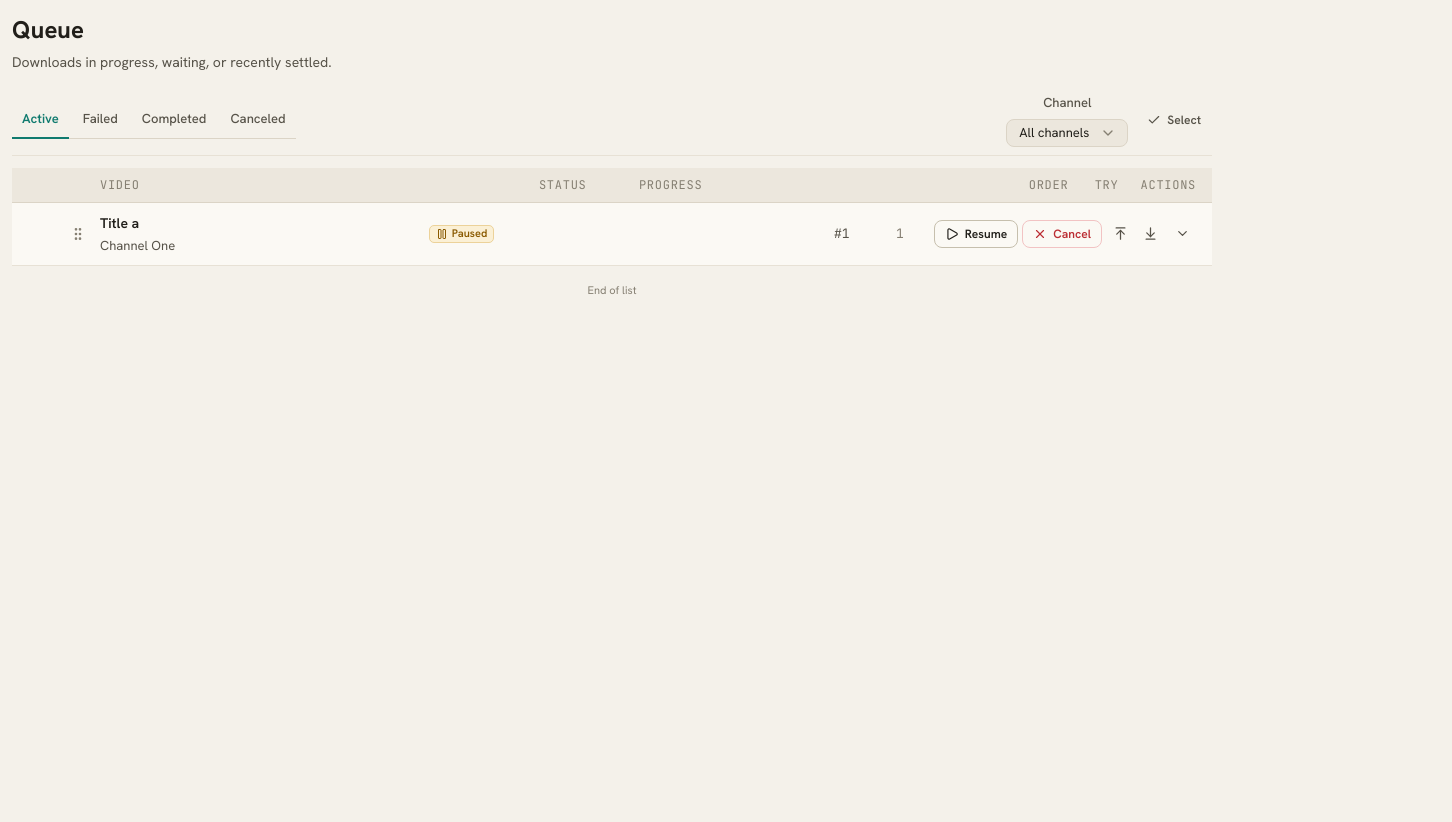
Test: QueuePage — cancel (§5.1) › resume on a legacy null-priority 409 shows guidance, not a silent loop (§5.3)
Expected: the link "Title a" is shown, top-left (100, 212), bottom-right (139, 234)
Click the button "Resume".
click(976, 234)  # box top-left (934, 220), bottom-right (1018, 248)
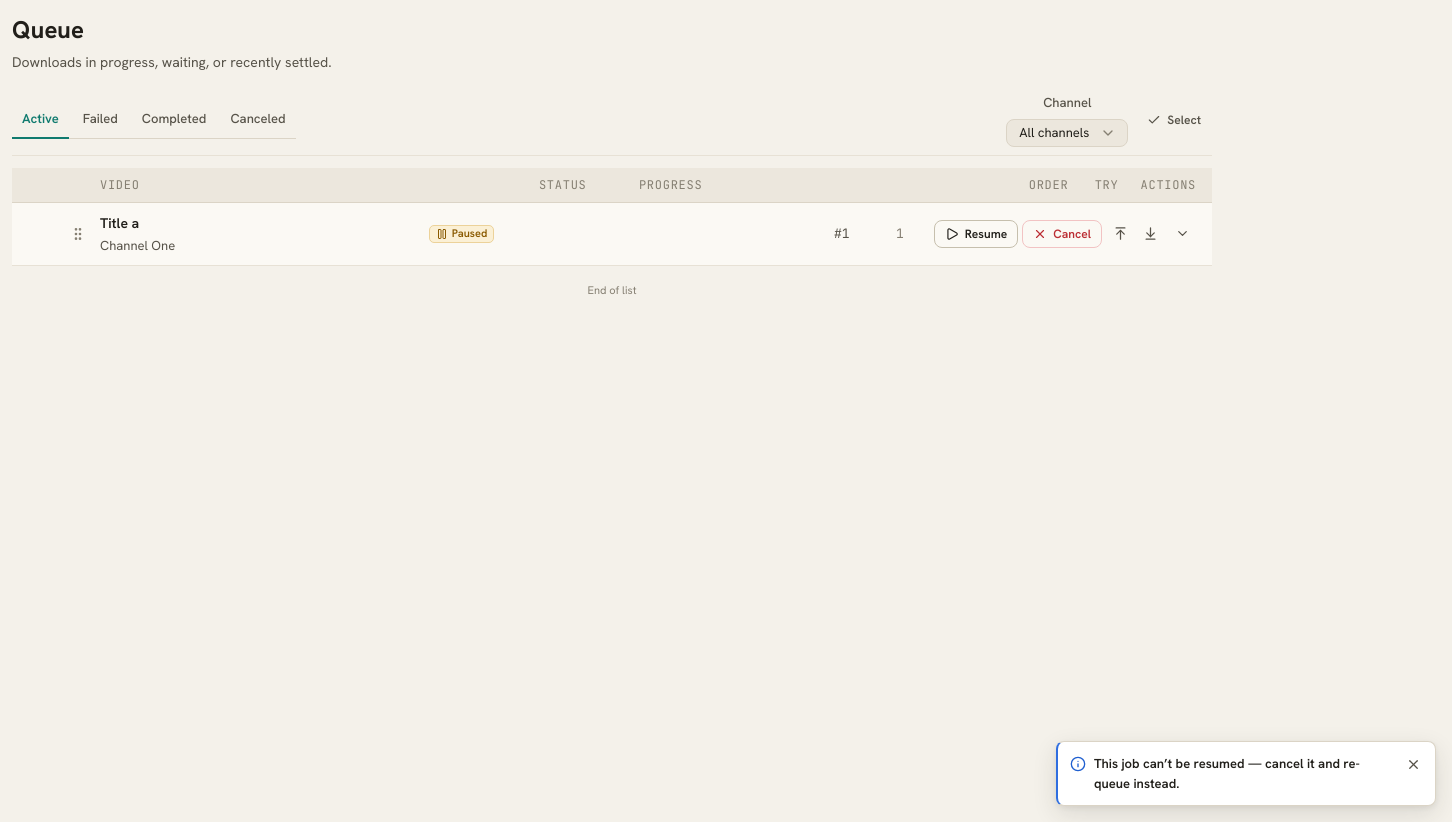
Expected: the text "This job can’t be resumed — cancel it and re-queue instead." is shown, top-left (1094, 754), bottom-right (1395, 793)
